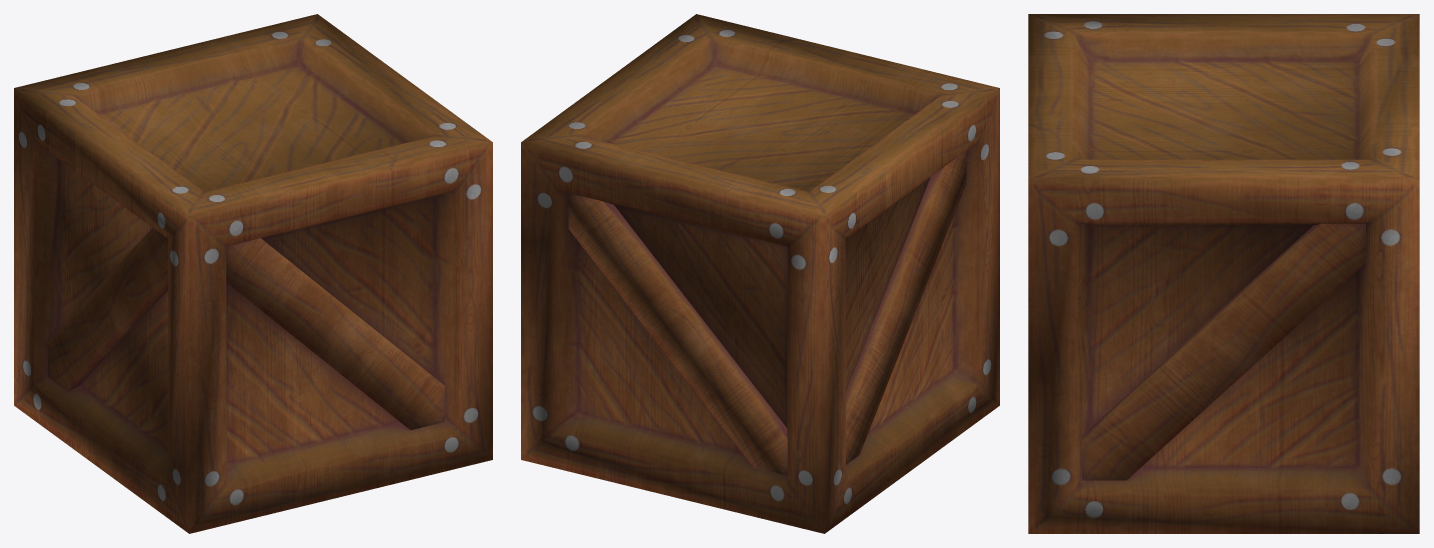
File: stylized_crate1.glb
3 views of the same model, side by side, from view 1: azimuth 30°, elevation 25°; view 2: azimuth 150°, elevation 25°; view 3: azimuth 270°, elevation 25° (orthographic). The views are drawn at different scales.
Visible parts, largest first — view 1: Crate007; view 2: Crate007; view 3: Crate007.
Part boxes in pixels (x1,y1,x2,y2): Crate007: [14, 14, 492, 533]; Crate007: [521, 14, 999, 533]; Crate007: [1028, 14, 1419, 533].
Bounding box in the file's own units: 19.69 × 19.68 × 19.68.
Materials: 1 (1 with a texture image).
